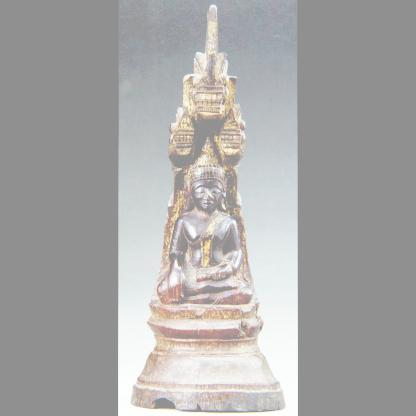buddha-sitting: (148, 143, 262, 339)
